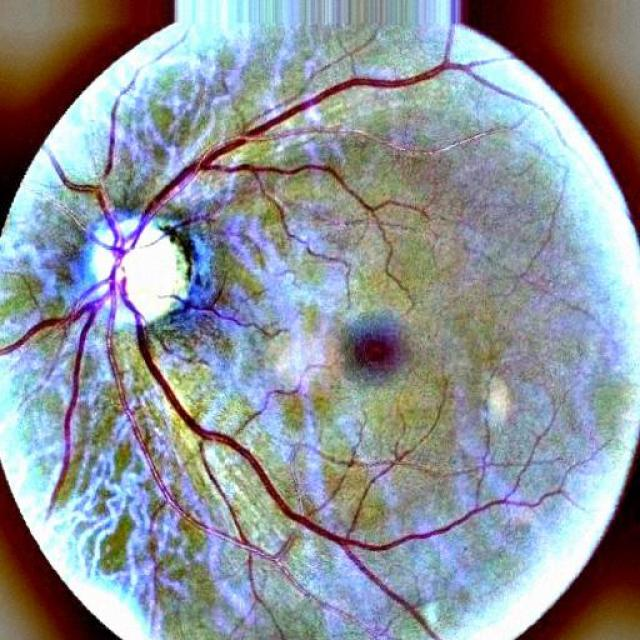Macula: (350, 328, 402, 379)
Nerves: (0, 30, 530, 639)
Optic Disk: (85, 208, 189, 325)
